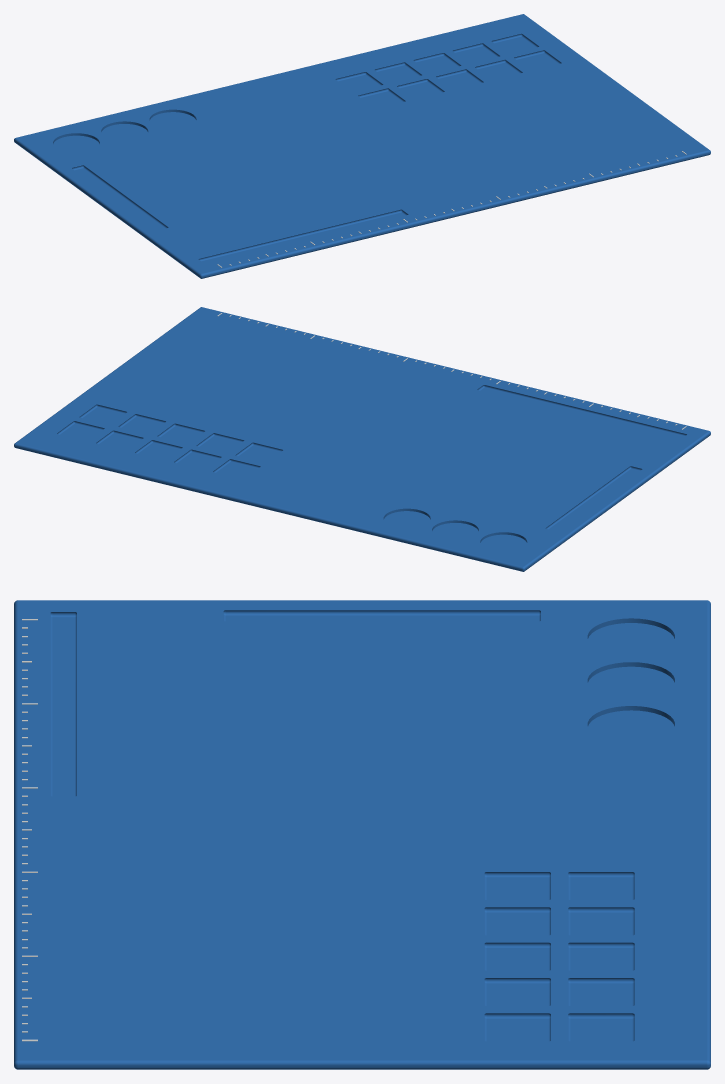
Rendered from silicone-mat.glb.
3 renders of one model, top to bottom at view 1: azimuth 30°, elevation 25°; view 2: azimuth 150°, elevation 25°; view 3: azimuth 270°, elevation 25°, orthographic. The views are drawn at different scales.
Visible parts, largest first — view 1: mat_body; view 2: mat_body; view 3: mat_body, mat_marks.
Part boxes in pixels (<box>): mat_body: <box>14,14,710,278</box>; mat_body: <box>14,307,710,571</box>; mat_body: <box>14,600,710,1069</box>; mat_marks: <box>22,619,37,1041</box>.
Size of the model in its own units: 0.55 by 0.0054 by 0.35.
